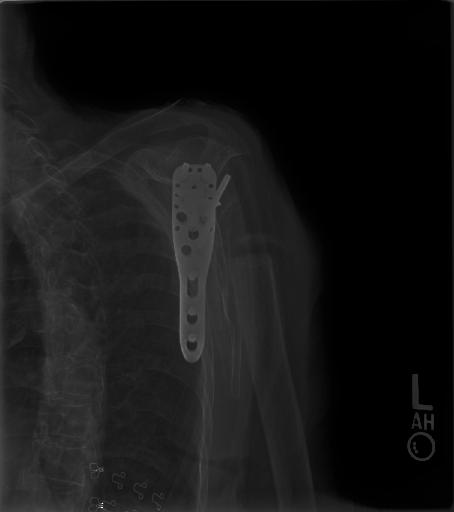shoulder fracture: (205, 190, 283, 305)
